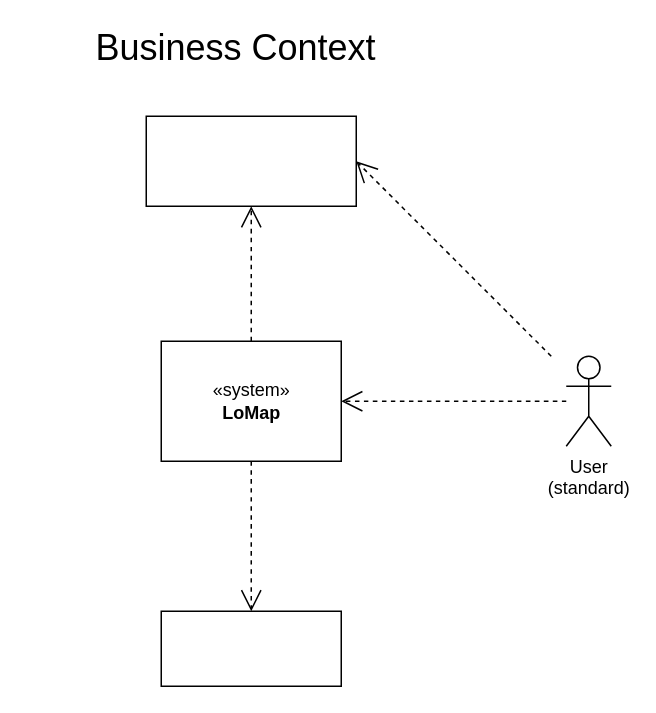
This 656x713 diagram has some shape labels left out. Here are the shapes that lost their labels. From the top down, the centre of each, then its label:
At pixel 250 160: "<<extern>> SOLID Pod Provider".
At pixel 250 648: "<<extern>> GoogleMaps API".
